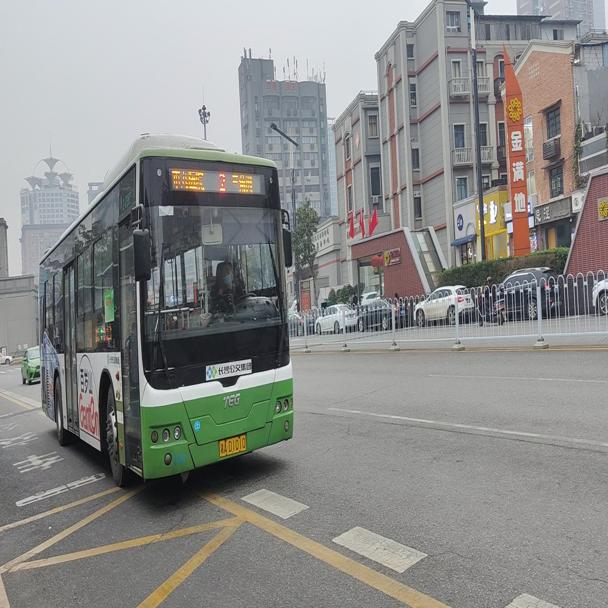bus: (33, 139, 301, 486)
screen: (211, 171, 233, 193)
